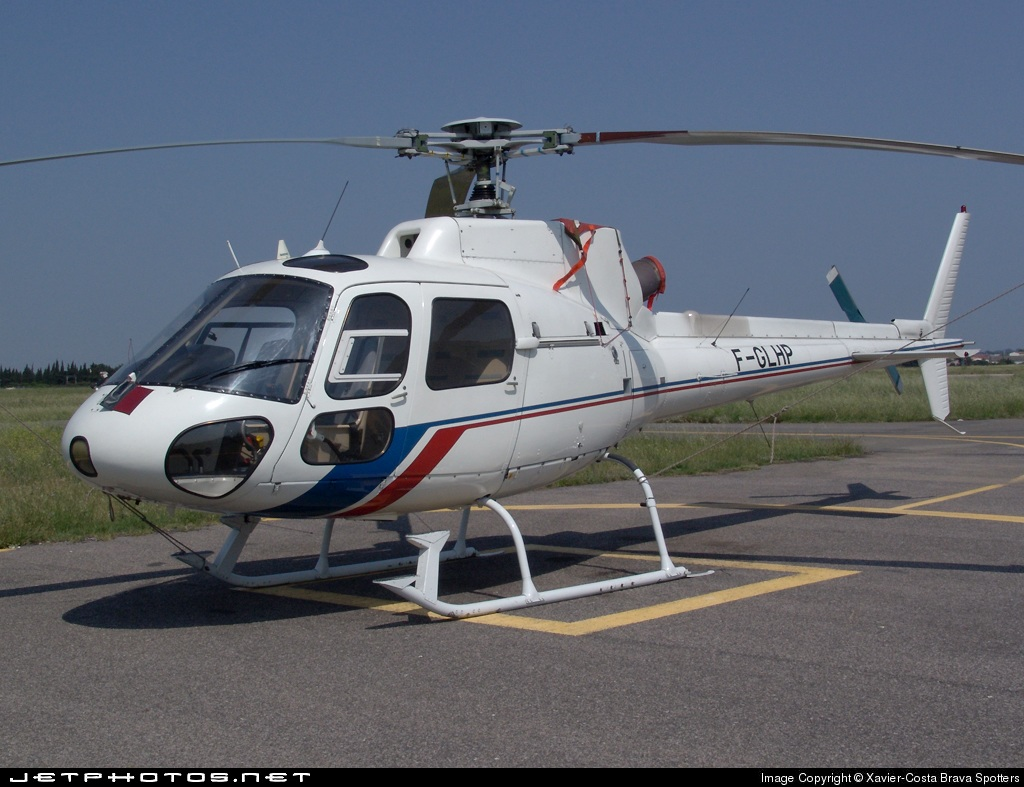number: (730, 342, 799, 373)
